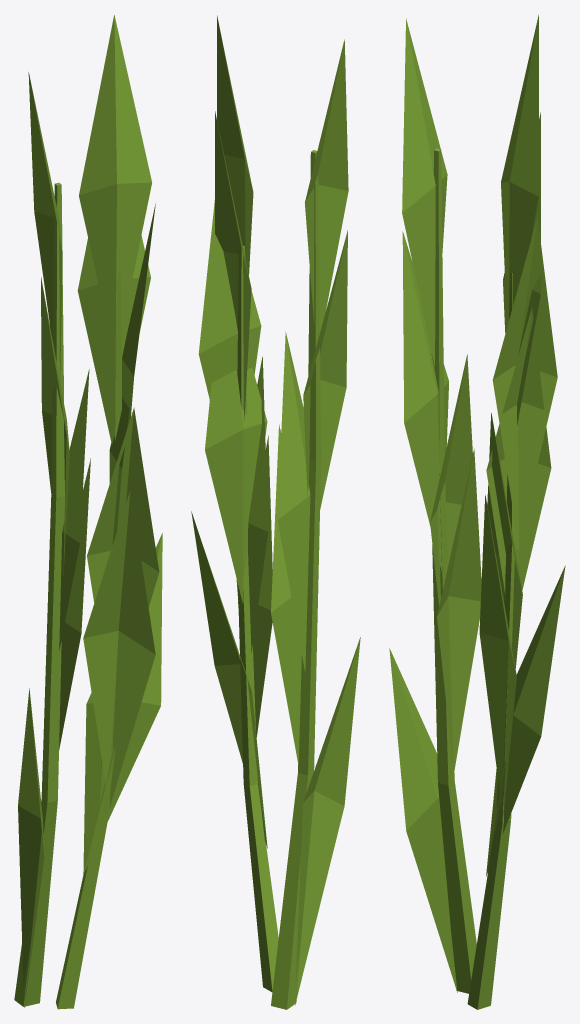
Rendered from SM_Grass_Reed_Mature_A.fbx.
3 views of the same model, side by side, from view 1: azimuth 30°, elevation 25°; view 2: azimuth 150°, elevation 25°; view 3: azimuth 330°, elevation 25° (orthographic). The views are drawn at different scales.
Visible parts, largest first — view 1: grass-reed-mature-a; view 2: grass-reed-mature-a; view 3: grass-reed-mature-a.
Boxes of the visible parts, x1,y1,x2,y2 form: grass-reed-mature-a: [14, 15, 162, 1009]; grass-reed-mature-a: [191, 15, 360, 1009]; grass-reed-mature-a: [389, 14, 565, 1009].
Size of the model in its own units: 0.3278 by 2.01 by 0.2162.
